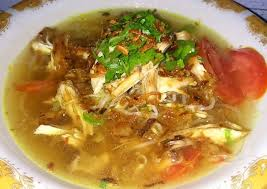soto: (5, 4, 267, 187)
